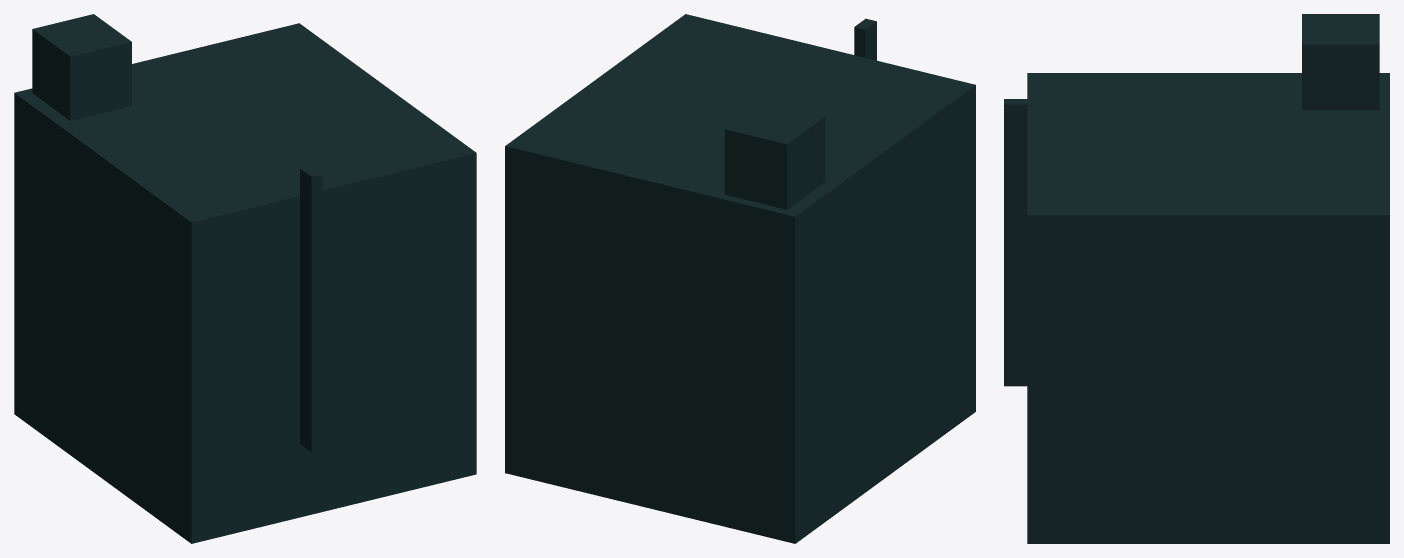
File: oc_apartments_01_collision.glb
The picture shows the model from 3 angles, left to right: view 1: azimuth 30°, elevation 25°; view 2: azimuth 150°, elevation 25°; view 3: azimuth 270°, elevation 25°; orthographic projection. The views are drawn at different scales.
Parts seen in each view (by area): view 1: COL_Body, COL_StairTower, COL_Fin; view 2: COL_Body, COL_StairTower, COL_Fin; view 3: COL_Body, COL_StairTower, COL_Fin.
Boxes of the visible parts, x1=… form: COL_Body: x1=14, y1=23, x2=476, y2=543; COL_StairTower: x1=32, y1=14, x2=131, y2=120; COL_Fin: x1=300, y1=166, x2=322, y2=452; COL_Body: x1=505, y1=14, x2=975, y2=543; COL_StairTower: x1=724, y1=101, x2=825, y2=209; COL_Fin: x1=854, y1=18, x2=876, y2=60; COL_Body: x1=1027, y1=73, x2=1389, y2=543; COL_StairTower: x1=1302, y1=14, x2=1379, y2=110; COL_Fin: x1=1004, y1=99, x2=1027, y2=386.
Bounding box in the file's own units: 13 × 16.8 × 14.9.
